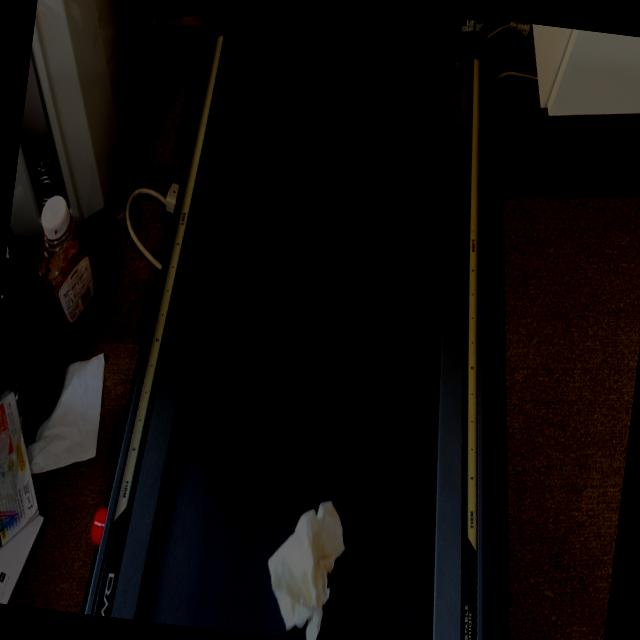Recycle: (257, 488, 351, 640)
